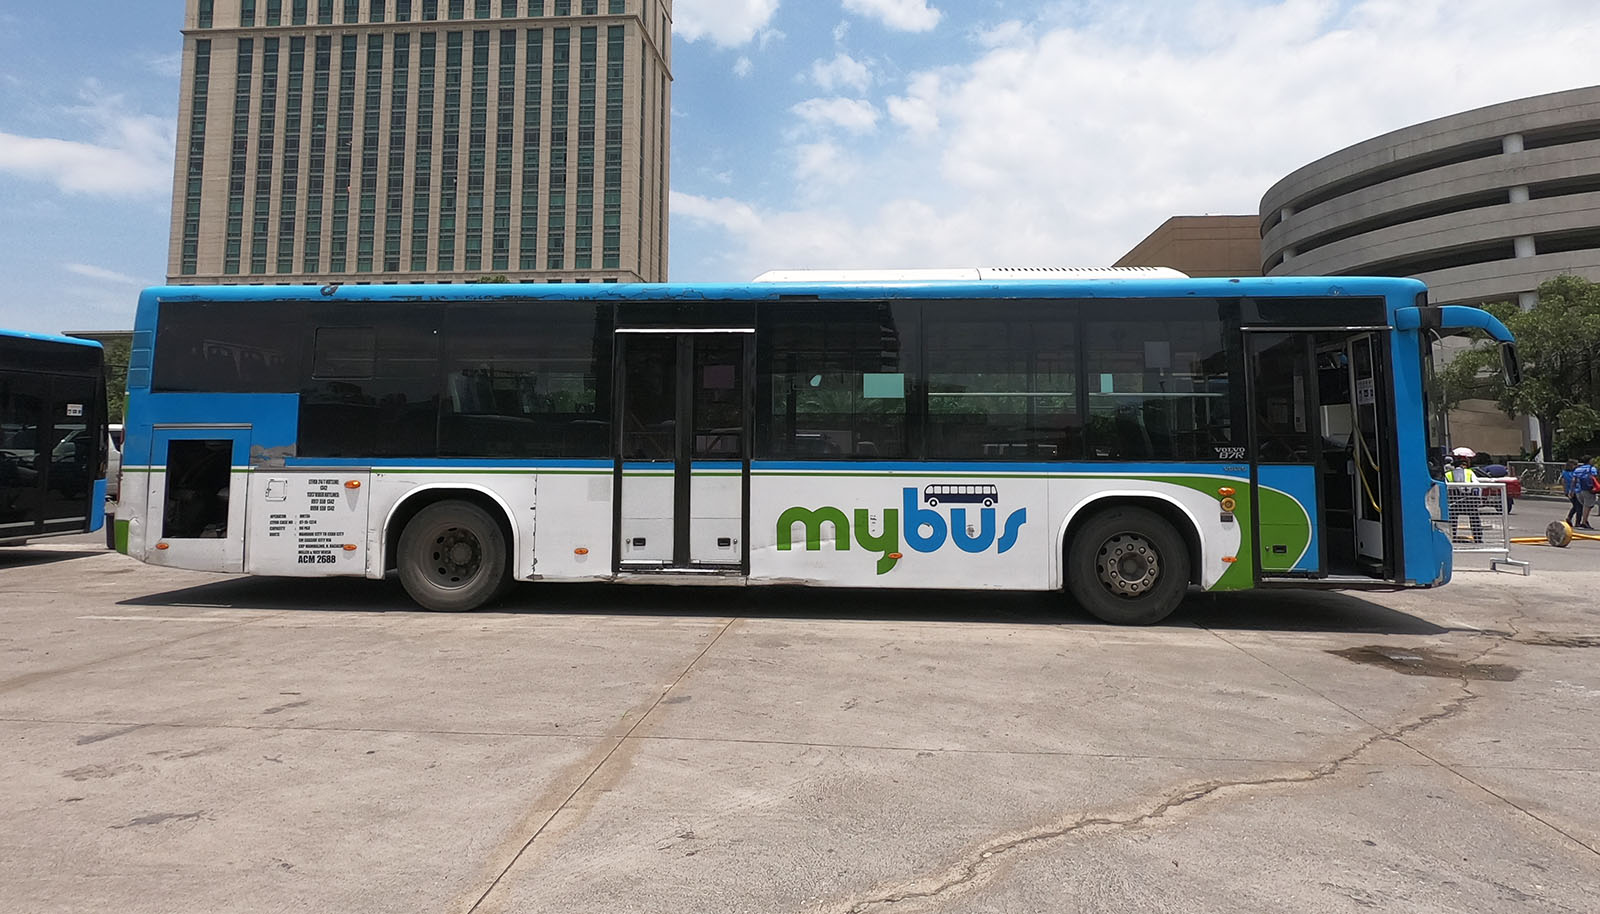bus: (133, 285, 1460, 609)
